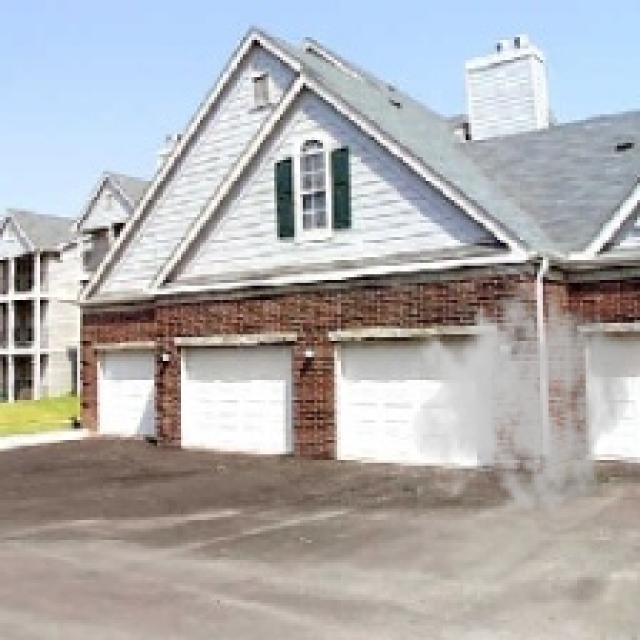Smoke: (412, 263, 632, 523)
